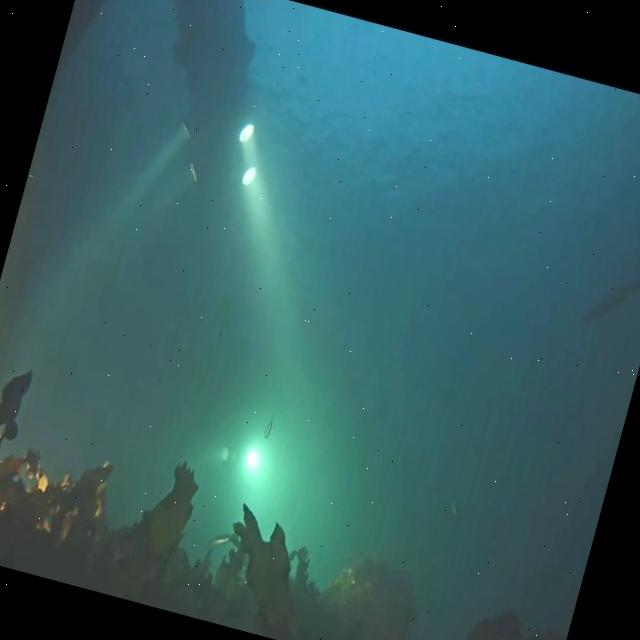fish: (578, 270, 638, 338), (207, 530, 233, 551), (261, 418, 275, 444), (450, 500, 462, 520)
